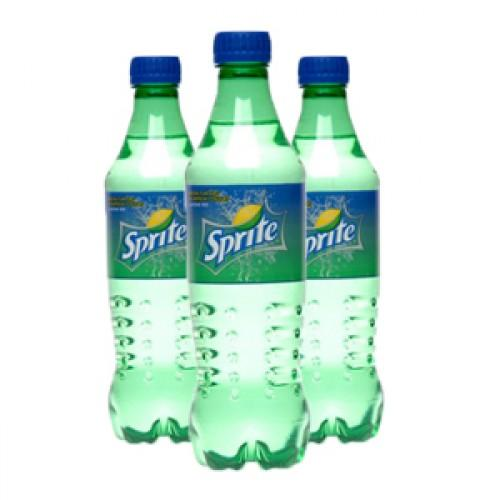sprite_bottle: (187, 29, 305, 473), (105, 51, 193, 441), (300, 51, 382, 440)
